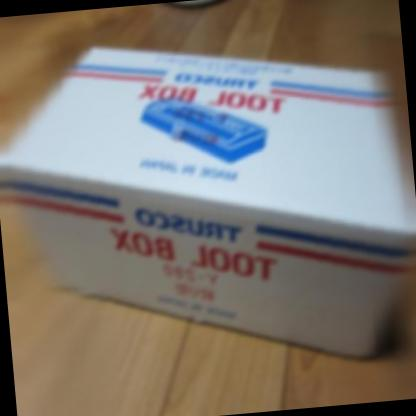box: (0, 18, 416, 395)
